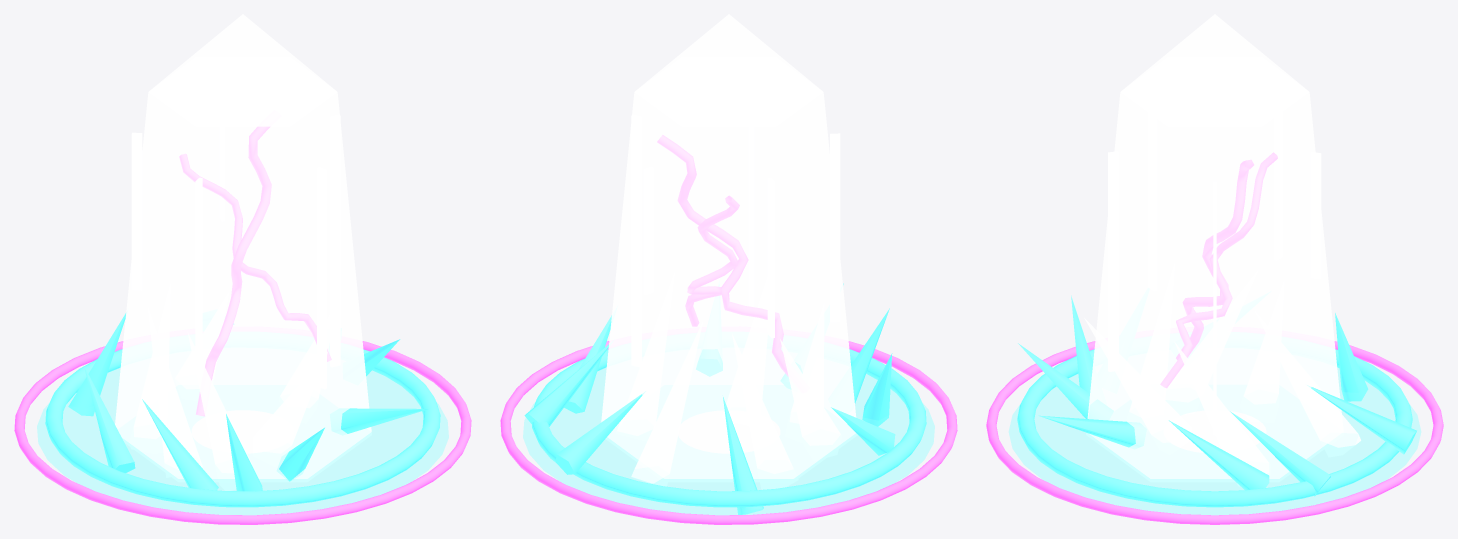
Rendered from vfx_reaction_flashfreeze.glb.
The picture shows the model from 3 angles, left to right: view 1: azimuth 30°, elevation 25°; view 2: azimuth 150°, elevation 25°; view 3: azimuth 270°, elevation 25°; orthographic projection.
Visible parts, largest first — view 1: ff_pillar, ff_rime, ff_pillar_cap, ff_crystals_b, ff_ring, ff_crystals, ff_ring_shock, ff_arc_a, ff_facet1, ff_arc_b, ff_facet2, ff_facet3; view 2: ff_pillar, ff_crystals_b, ff_rime, ff_pillar_cap, ff_crystals, ff_ring, ff_ring_shock, ff_arc_a, ff_arc_b, ff_facet2, ff_facet4, ff_facet3; view 3: ff_pillar, ff_crystals_b, ff_rime, ff_pillar_cap, ff_crystals, ff_ring, ff_ring_shock, ff_facet1, ff_arc_b, ff_arc_a, ff_facet4, ff_facet0 (+1 smaller).
Part boxes in pixels (<box>): ff_pillar: <box>115,57,371,482</box>; ff_rime: <box>37,368,448,514</box>; ff_pillar_cap: <box>149,14,336,126</box>; ff_crystals_b: <box>130,284,337,490</box>; ff_ring: <box>45,349,440,507</box>; ff_crystals: <box>68,312,428,491</box>; ff_ring_shock: <box>14,341,471,524</box>; ff_arc_a: <box>196,127,271,415</box>; ff_facet1: <box>317,167,326,389</box>; ff_arc_b: <box>179,154,331,361</box>; ff_facet2: <box>195,177,202,369</box>; ff_facet3: <box>131,132,142,290</box>; ff_pillar: <box>601,57,857,482</box>; ff_crystals_b: <box>617,273,840,489</box>; ff_rime: <box>523,368,934,514</box>; ff_pillar_cap: <box>635,14,822,126</box>; ff_crystals: <box>524,283,895,514</box>; ff_ring: <box>532,349,926,507</box>; ff_ring_shock: <box>500,341,957,524</box>; ff_arc_a: <box>657,135,787,375</box>; ff_arc_b: <box>685,196,739,326</box>; ff_facet2: <box>830,133,840,321</box>; ff_facet4: <box>643,166,653,294</box>; ff_facet3: <box>767,178,774,338</box>; ff_pillar: <box>1086,57,1341,482</box>; ff_crystals_b: <box>1084,264,1360,486</box>; ff_rime: <box>1009,368,1420,514</box>; ff_pillar_cap: <box>1121,14,1308,126</box>; ff_crystals: <box>1018,295,1416,496</box>; ff_ring: <box>1017,349,1412,507</box>; ff_ring_shock: <box>986,341,1443,524</box>; ff_facet1: <box>1108,151,1118,371</box>; ff_arc_b: <box>1160,152,1277,387</box>; ff_arc_a: <box>1176,160,1253,359</box>; ff_facet4: <box>1310,152,1321,279</box>; ff_facet0: <box>1213,181,1216,435</box>.
Size of the model in its own units: 2.66 by 2.81 by 2.66.
